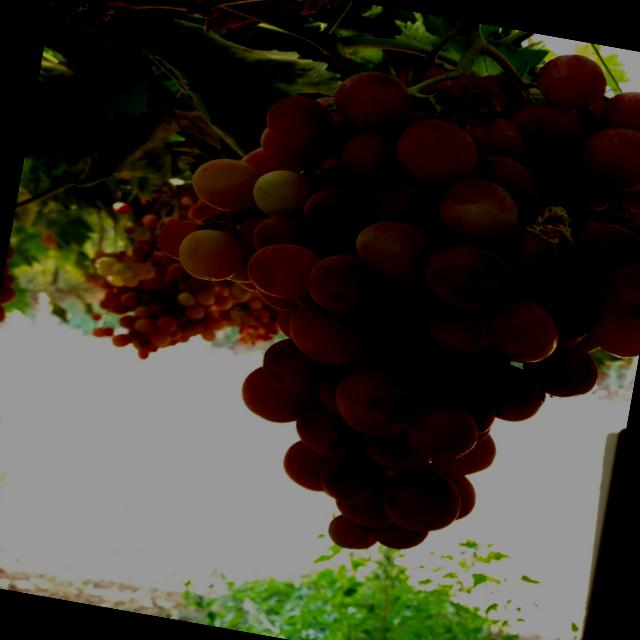grapes: (328, 360, 428, 444), (392, 112, 485, 194), (419, 240, 519, 316), (434, 171, 527, 250), (474, 291, 564, 370), (488, 221, 578, 298), (378, 462, 467, 538), (326, 64, 416, 138), (301, 246, 387, 322), (284, 302, 378, 369), (399, 398, 482, 466), (238, 364, 322, 430), (240, 237, 320, 306), (352, 215, 434, 282), (505, 99, 588, 163), (521, 282, 604, 346), (533, 47, 613, 113), (523, 340, 602, 404), (261, 91, 339, 154), (575, 122, 640, 197), (291, 400, 368, 462), (422, 420, 500, 480), (173, 222, 247, 284), (412, 354, 488, 414), (188, 152, 261, 214), (256, 332, 331, 392), (317, 441, 386, 506), (362, 173, 442, 229), (468, 150, 538, 213), (250, 163, 322, 224), (334, 126, 402, 190), (481, 362, 550, 425), (368, 286, 438, 348), (299, 180, 371, 240), (570, 215, 640, 276), (250, 208, 328, 260), (422, 300, 489, 358), (454, 110, 526, 160), (583, 299, 640, 359), (258, 129, 330, 174), (554, 180, 632, 221), (359, 425, 424, 473), (276, 438, 332, 492), (592, 256, 640, 316), (394, 59, 450, 102), (368, 518, 431, 556), (599, 87, 640, 145), (312, 354, 350, 414), (332, 498, 398, 532), (154, 215, 201, 261), (364, 337, 419, 376), (324, 512, 374, 554), (474, 72, 526, 112), (438, 472, 478, 520), (514, 162, 562, 201), (238, 142, 290, 176), (614, 205, 640, 265), (460, 393, 498, 430), (617, 169, 640, 215), (233, 211, 263, 242), (267, 308, 297, 336)
